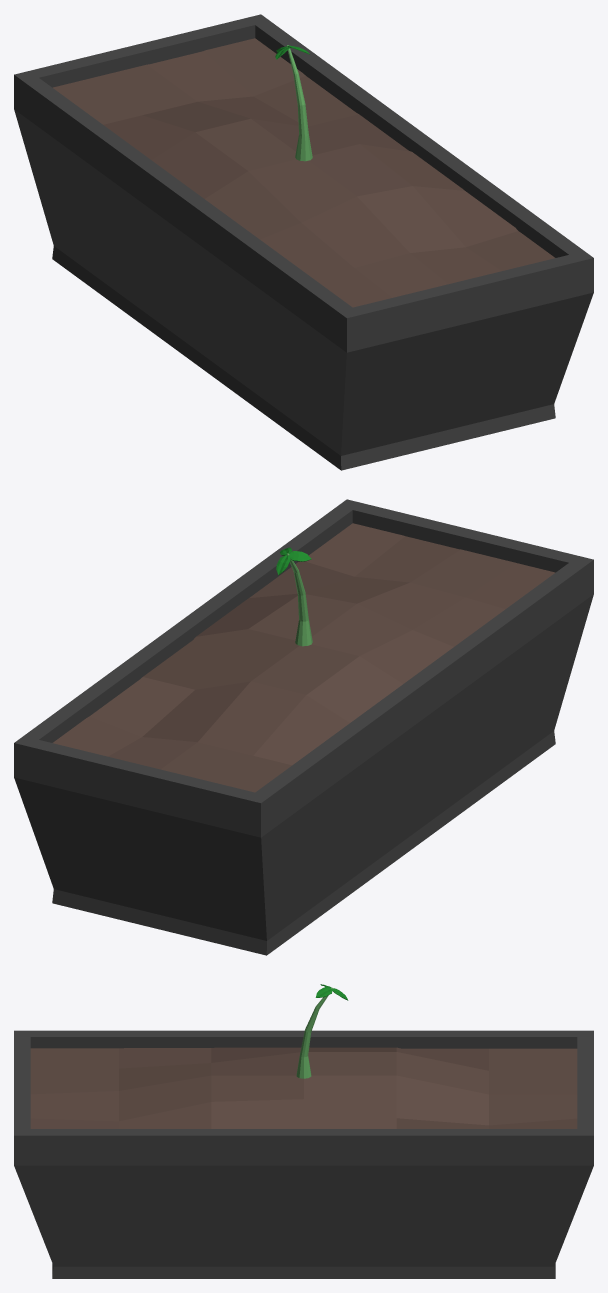
The model's file is Small Bonsai Tree.fbx.
3 views of the same model, one above another, from view 1: azimuth 30°, elevation 25°; view 2: azimuth 150°, elevation 25°; view 3: azimuth 270°, elevation 25° (orthographic). The views are drawn at different scales.
Parts seen in each view (by area): view 1: Plantenbak, Plant; view 2: Plantenbak, Plant; view 3: Plantenbak, Plant.
Part boxes in pixels (left/top/right/bottom): Plantenbak: left=14, top=14, right=593, bottom=470; Plant: left=275, top=45, right=312, bottom=161; Plantenbak: left=14, top=499, right=593, bottom=955; Plant: left=276, top=547, right=312, bottom=646; Plantenbak: left=14, top=1030, right=593, bottom=1278; Plant: left=296, top=984, right=348, bottom=1078.
Size of the model in its own units: 30 by 32.77 by 70.
